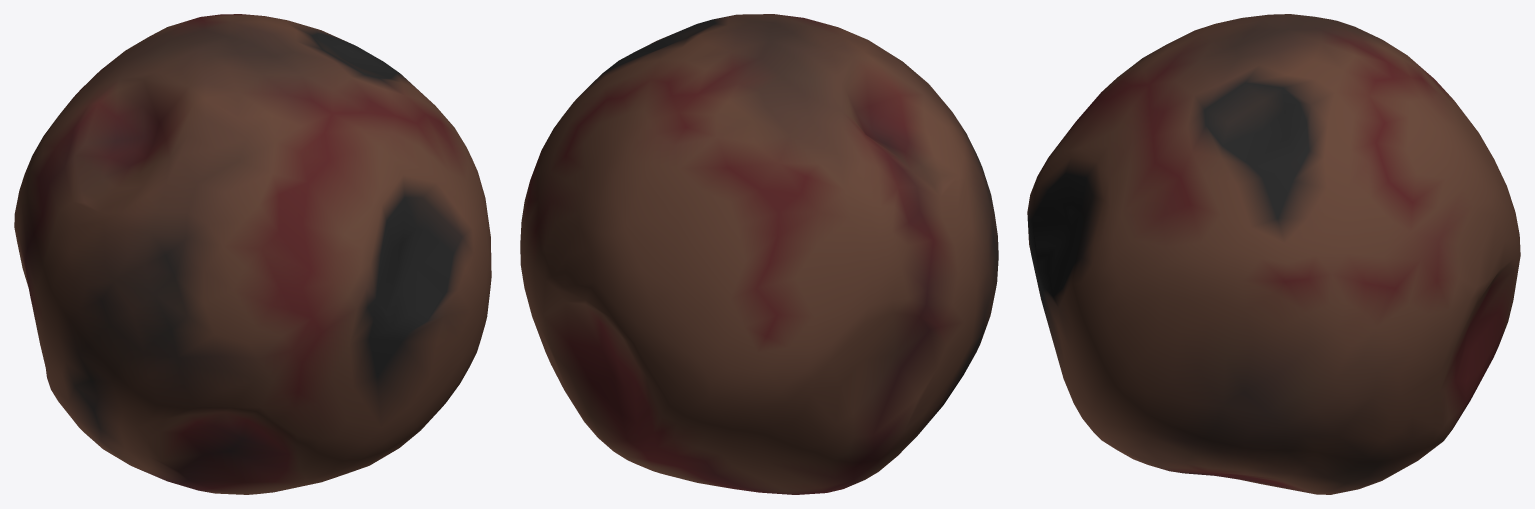
File: Asteroid A1.fbx
3 renders of one model, left to right at view 1: azimuth 30°, elevation 25°; view 2: azimuth 150°, elevation 25°; view 3: azimuth 270°, elevation 25°, orthographic.
Parts seen in each view (by area): view 1: Icosphere; view 2: Icosphere; view 3: Icosphere.
Part boxes in pixels (box(x1,y1,x2,y2)): Icosphere: box(14, 14, 491, 494); Icosphere: box(520, 14, 998, 494); Icosphere: box(1027, 14, 1520, 494).
Size of the model in its own units: 1606 by 1634 by 1656.
